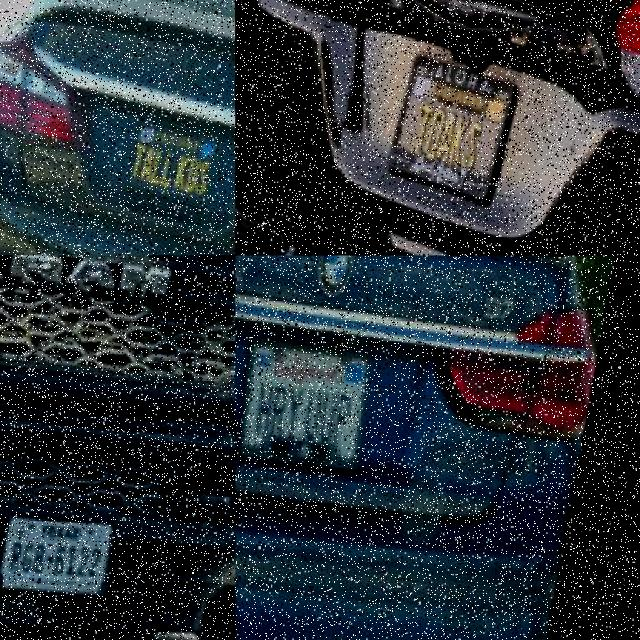licenseplate: (236, 326, 386, 488), (386, 47, 520, 210), (0, 519, 111, 604), (122, 121, 216, 208)
